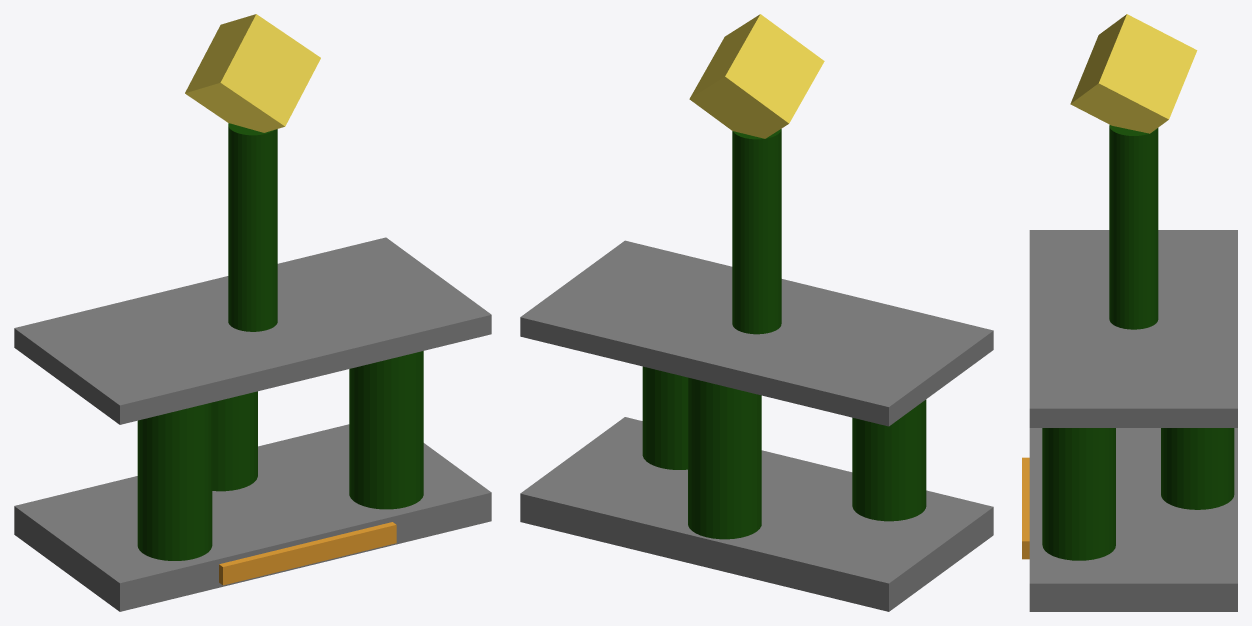
Rendered from Trophy_3.fbx.
3 renders of one model, left to right at view 1: azimuth 30°, elevation 25°; view 2: azimuth 150°, elevation 25°; view 3: azimuth 270°, elevation 25°, orthographic.
Visible parts, largest first — view 1: Cube.001; view 2: Cube.001; view 3: Cube.001.
Part boxes in pixels (x1,y1,x2,y2): Cube.001: [14, 14, 491, 611]; Cube.001: [520, 14, 993, 611]; Cube.001: [1022, 14, 1237, 611].
Bounding box in the file's own units: 517 × 686 × 264.
